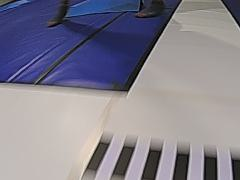CrossWalk: (77, 129, 240, 178), (47, 2, 72, 26)
